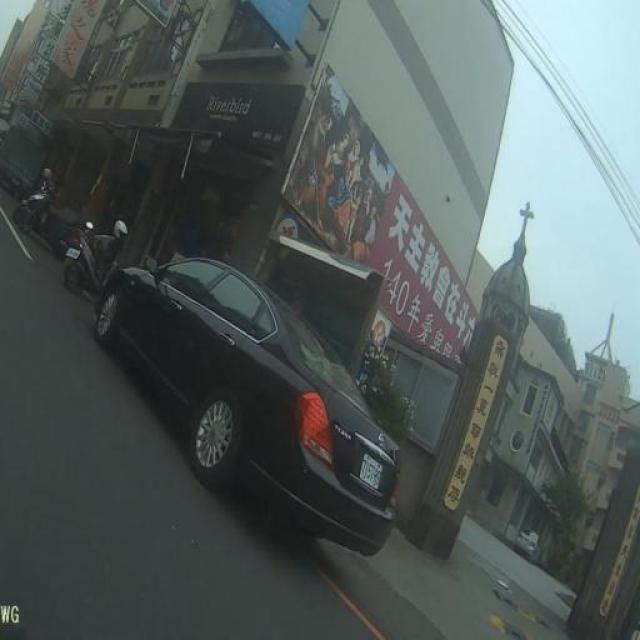illegalparking: (95, 258, 400, 555)
